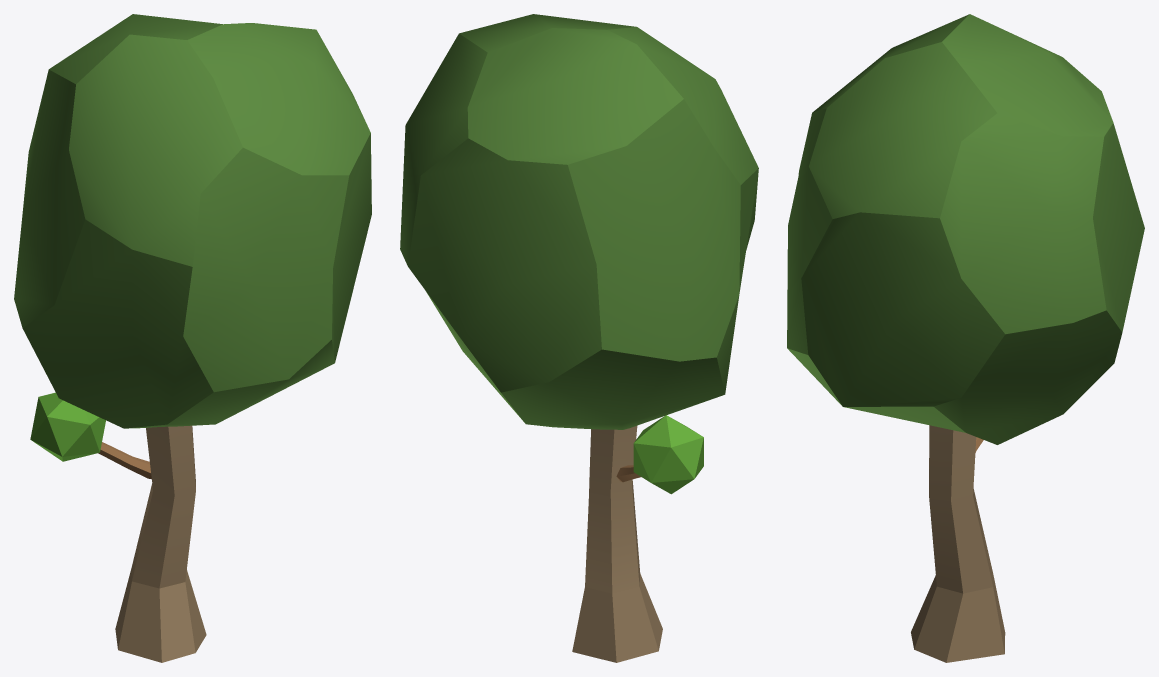
File: Tree_02-Bruno.fbx
3 views of the same model, side by side, from view 1: azimuth 30°, elevation 25°; view 2: azimuth 150°, elevation 25°; view 3: azimuth 270°, elevation 25° (orthographic).
Visible parts, largest first — view 1: pPlatonic1, pCylinder1, pPlatonic2, pCylinder2; view 2: pPlatonic1, pCylinder1, pPlatonic2; view 3: pPlatonic1, pCylinder1.
Boxes of the visible parts, left/top/right/bottom form: pPlatonic1: left=14, top=14, right=371, bottom=428; pCylinder1: left=115, top=425, right=206, bottom=662; pPlatonic2: left=30, top=392, right=105, bottom=461; pCylinder2: left=98, top=442, right=151, bottom=479; pPlatonic1: left=400, top=14, right=758, bottom=429; pCylinder1: left=572, top=426, right=662, bottom=662; pPlatonic2: left=633, top=415, right=703, bottom=494; pPlatonic1: left=787, top=14, right=1144, bottom=444; pCylinder1: left=911, top=425, right=1005, bottom=662.
Size of the model in its own units: 8.75 by 16.09 by 8.46.
